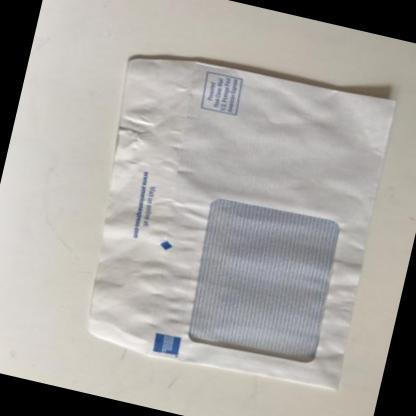Paper: (89, 54, 396, 389)
